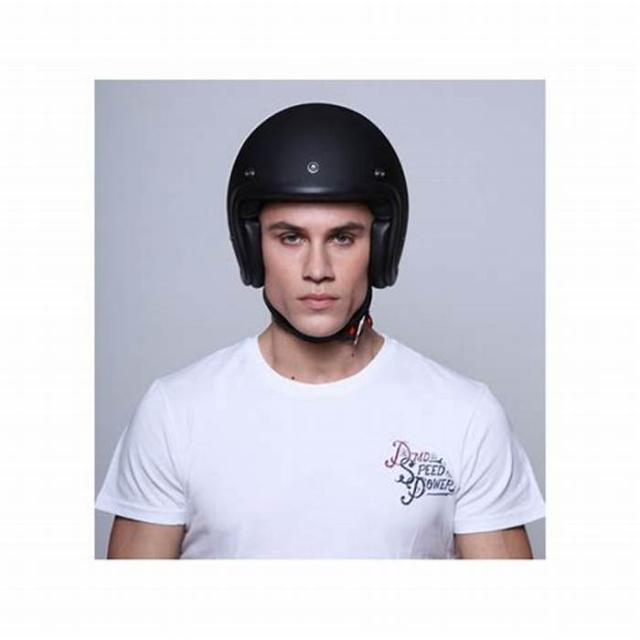helmet: (218, 97, 416, 351)
